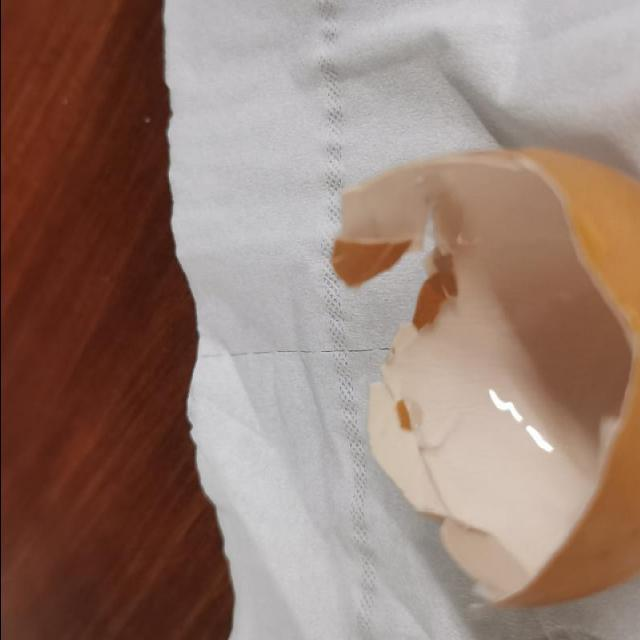egg shell: (334, 140, 639, 612)
